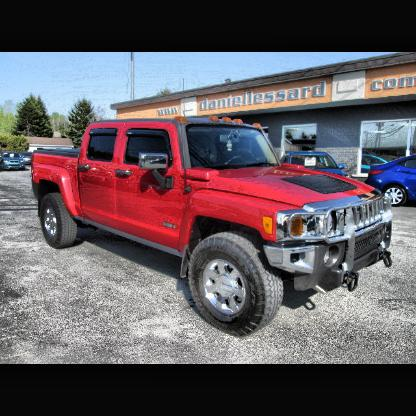HUMMER H3T Crew Cab 2010: (31, 116, 395, 338)
